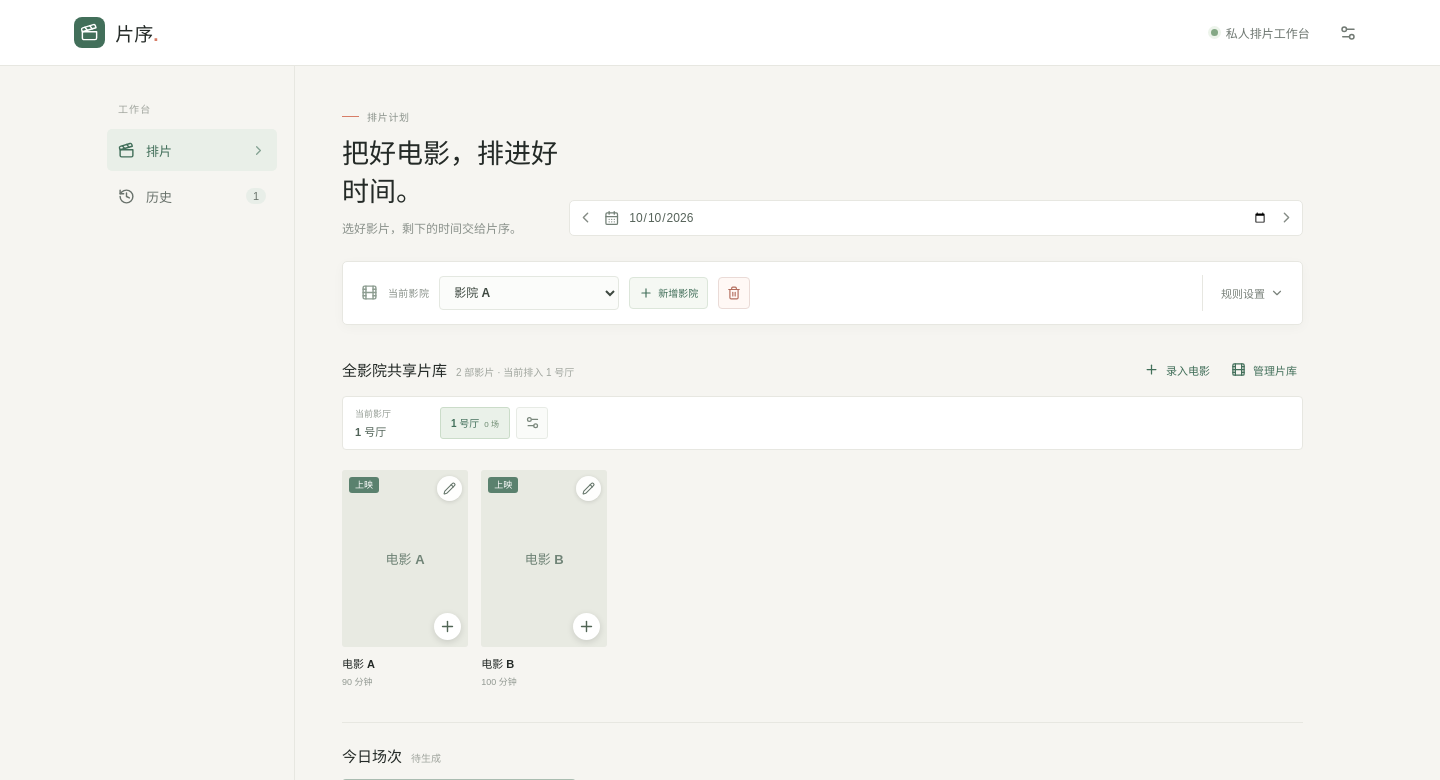
Test: 排片回归测试 › 删除当前影院时只移除影院配置，不删除历史记录
What coordinates should you click on to do the following:
click the button named "删除当前影院"
I would click on:
 (734, 293)
Its box is [718,277,750,309].
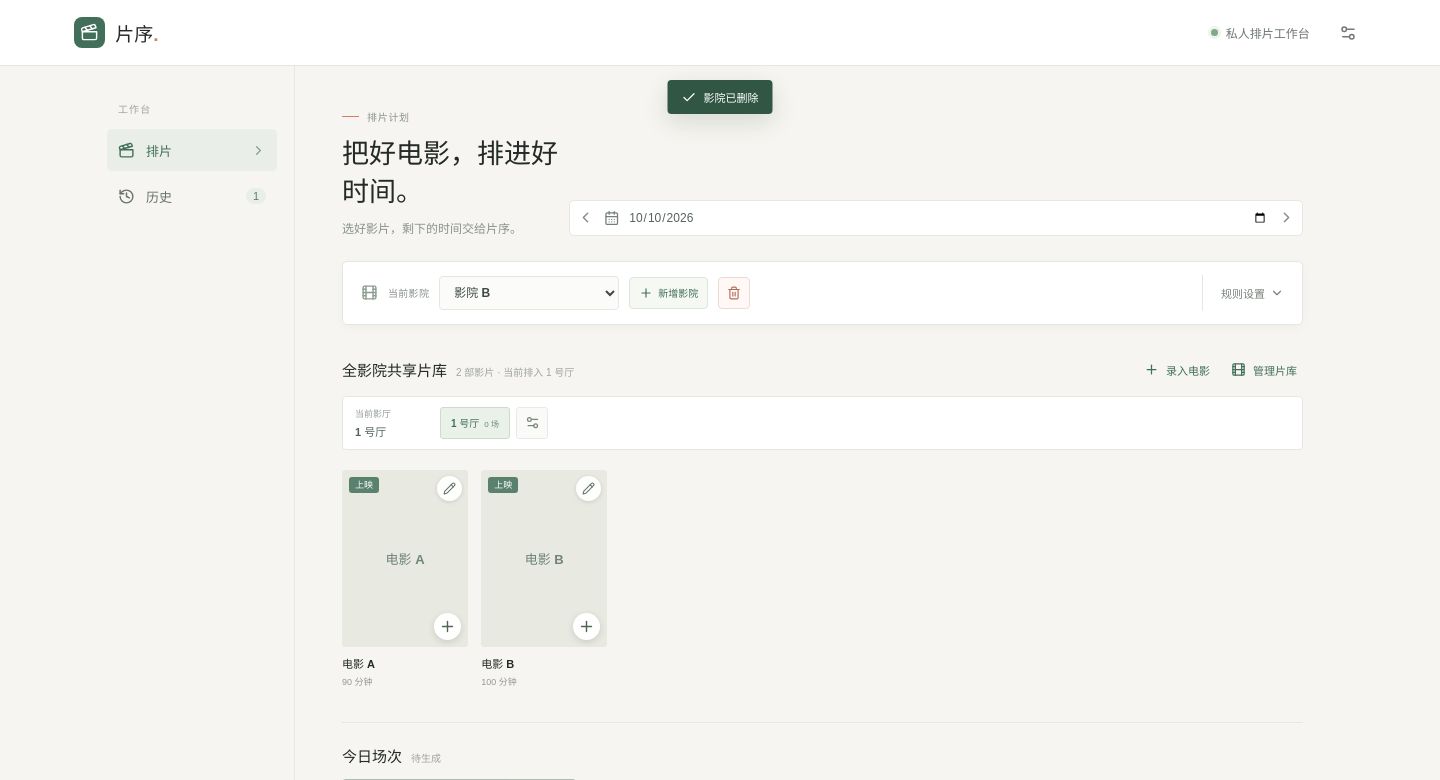
Expected: the dropdown labelled "当前影院" shows "影院 B", [439,276,619,310]
